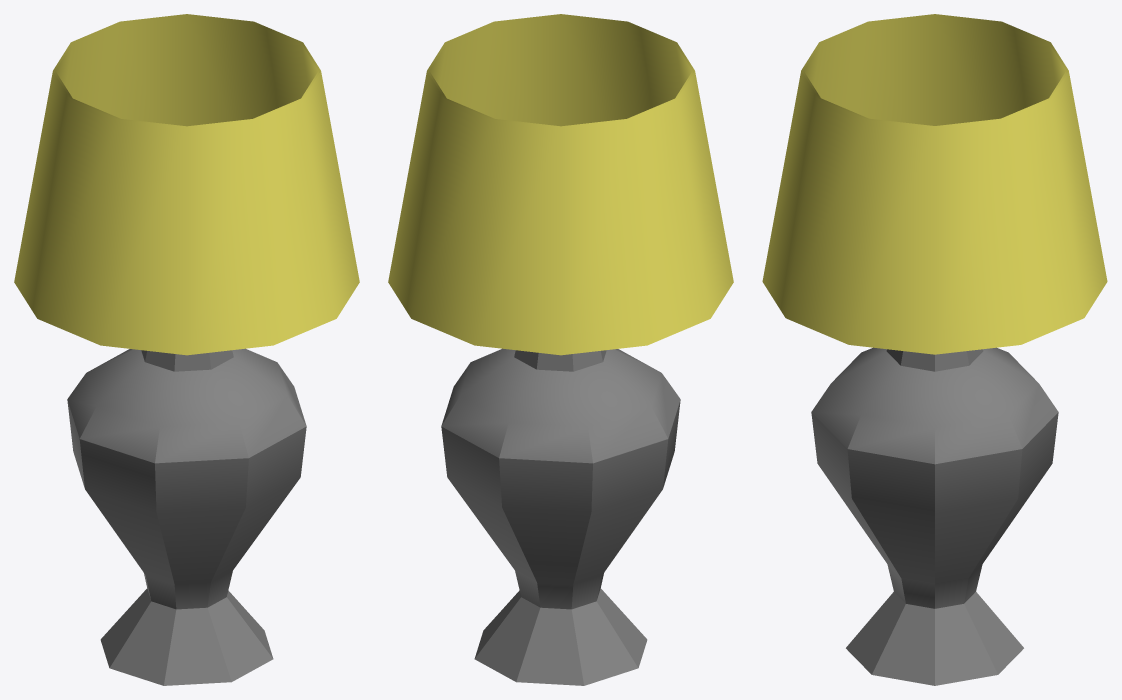
The model's file is Lampara01.fbx.
The picture shows the model from 3 angles, left to right: view 1: azimuth 30°, elevation 25°; view 2: azimuth 150°, elevation 25°; view 3: azimuth 270°, elevation 25°; orthographic projection.
Visible parts, largest first — view 1: Lampara01; view 2: Lampara01; view 3: Lampara01.
Boxes of the visible parts, x1,y1,x2,y2 form: Lampara01: [14, 14, 359, 685]; Lampara01: [388, 14, 733, 685]; Lampara01: [762, 14, 1107, 685].
Size of the model in its own units: 0.2113 by 0.3903 by 0.2113.
